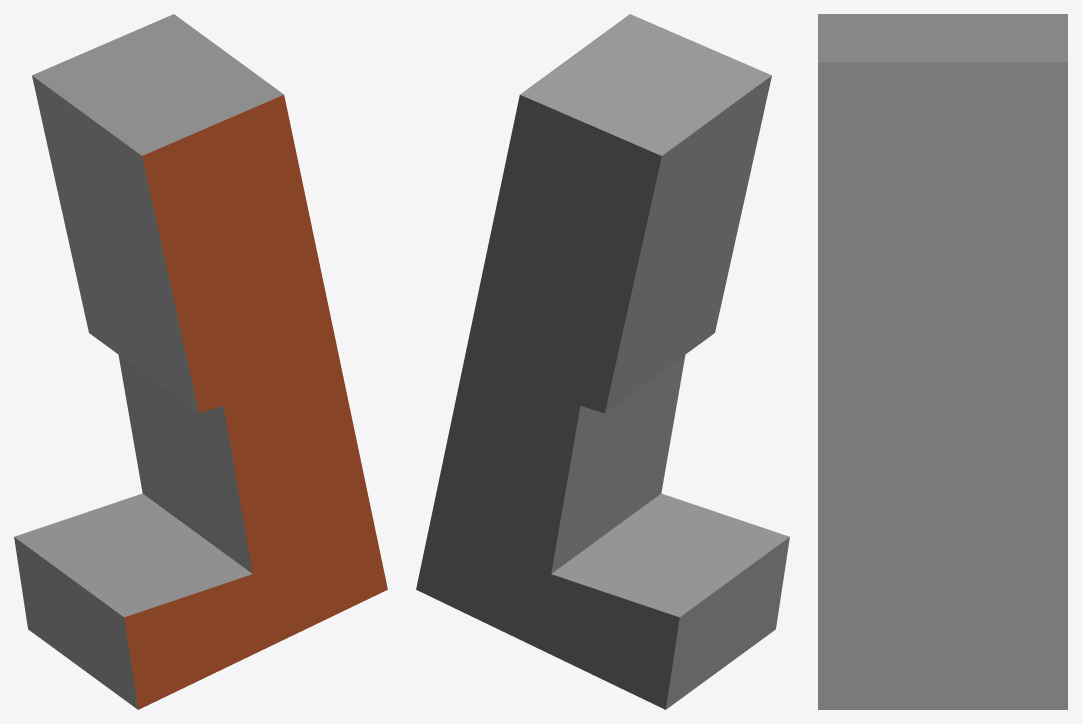
File: construction_5277_assumed_A_Casa_h6m.obj
The picture shows the model from 3 angles, left to right: view 1: azimuth 30°, elevation 25°; view 2: azimuth 150°, elevation 25°; view 3: azimuth 270°, elevation 25°; orthographic projection. The views are drawn at different scales.
Visible parts, largest first — view 1: construction_5277_assumed_A_Casa; view 2: construction_5277_assumed_A_Casa; view 3: construction_5277_assumed_A_Casa.
Boxes of the visible parts, x1,y1,x2,y2 form: construction_5277_assumed_A_Casa: [14, 14, 387, 709]; construction_5277_assumed_A_Casa: [416, 14, 789, 709]; construction_5277_assumed_A_Casa: [818, 14, 1067, 709].
Size of the model in its own units: 8.29 by 17.42 by 6.
